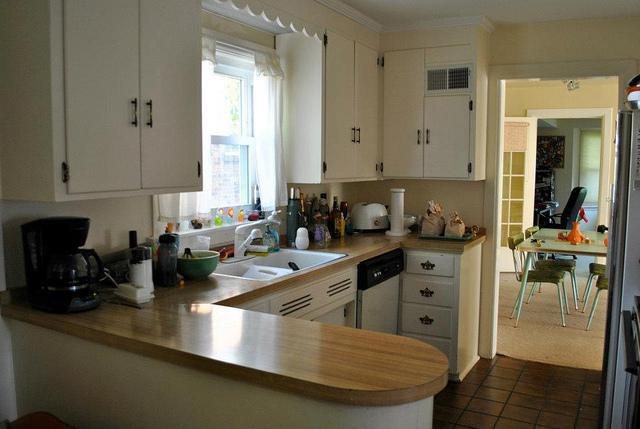Lavaplatos: (202, 209, 355, 299)
